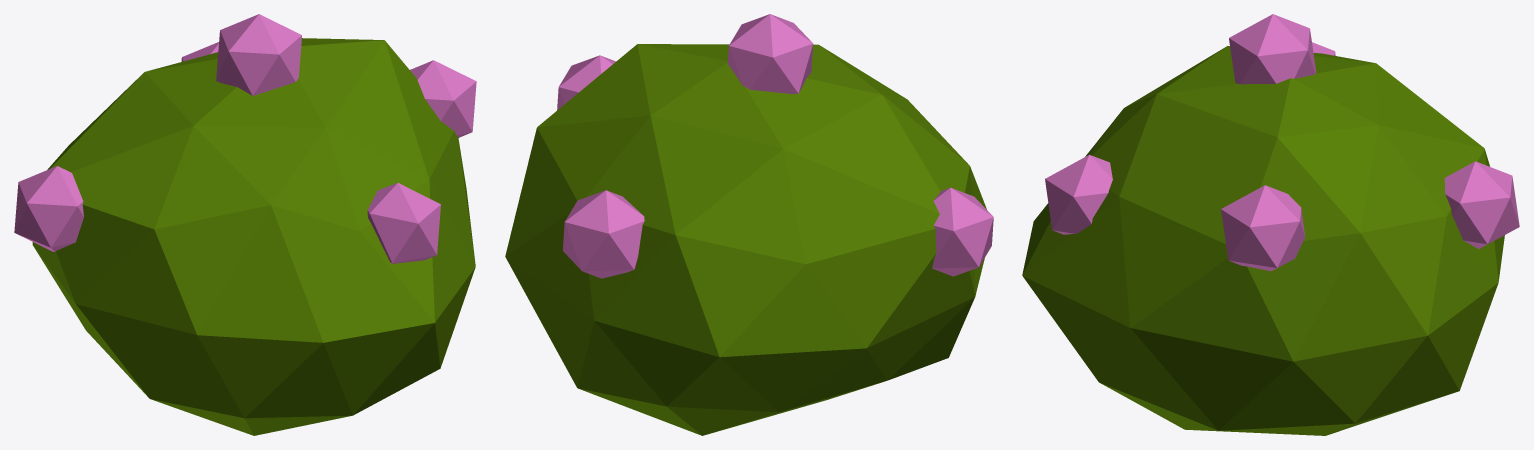
The model's file is Bush_6.glb.
3 views of the same model, side by side, from view 1: azimuth 30°, elevation 25°; view 2: azimuth 150°, elevation 25°; view 3: azimuth 270°, elevation 25° (orthographic). The views are drawn at different scales.
Parts seen in each view (by area): view 1: Bush.006; view 2: Bush.006; view 3: Bush.006.
Part boxes in pixels (left/top/right/bottom): Bush.006: left=14, top=14, right=476, bottom=435; Bush.006: left=505, top=14, right=993, bottom=435; Bush.006: left=1022, top=14, right=1519, bottom=435.
Size of the model in its own units: 1.69 by 1.38 by 1.62.
